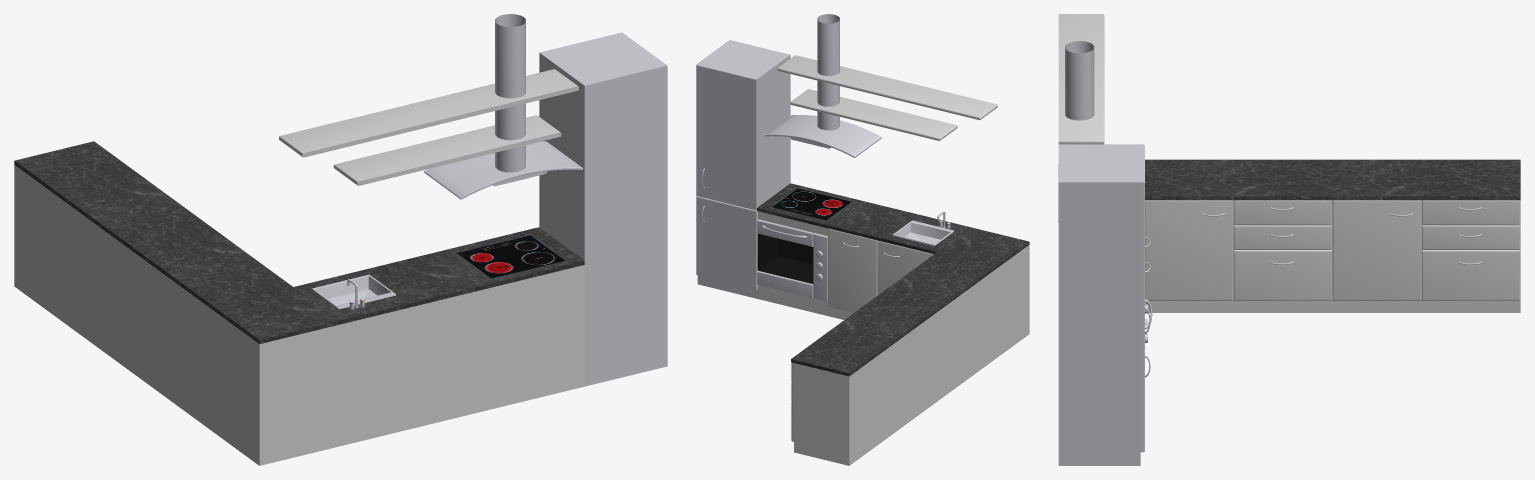
The model's file is Kitchen05.fbx.
3 views of the same model, side by side, from view 1: azimuth 30°, elevation 25°; view 2: azimuth 150°, elevation 25°; view 3: azimuth 270°, elevation 25° (orthographic). The views are drawn at different scales.
Parts seen in each view (by area): view 1: White_, Metal_, Countertop_, Ceramic_hob; view 2: White_, Metal_, Countertop_, Crystal_, Ceramic_hob; view 3: White_, Metal_, Countertop_.
Part boxes in pixels (x1,y1,x2,y2): White_: [14, 69, 584, 465]; Metal_: [312, 14, 667, 386]; Countertop_: [14, 141, 584, 343]; Ceramic_hob: [455, 234, 566, 279]; White_: [758, 55, 1029, 465]; Metal_: [696, 14, 954, 301]; Countertop_: [757, 183, 1029, 376]; Crystal_: [757, 233, 813, 283]; Ceramic_hob: [771, 188, 852, 220]; White_: [1058, 14, 1520, 312]; Metal_: [1058, 41, 1481, 465]; Countertop_: [1145, 159, 1520, 200].
Bounding box in the file's own units: 2.98 × 2.61 × 3.1.
